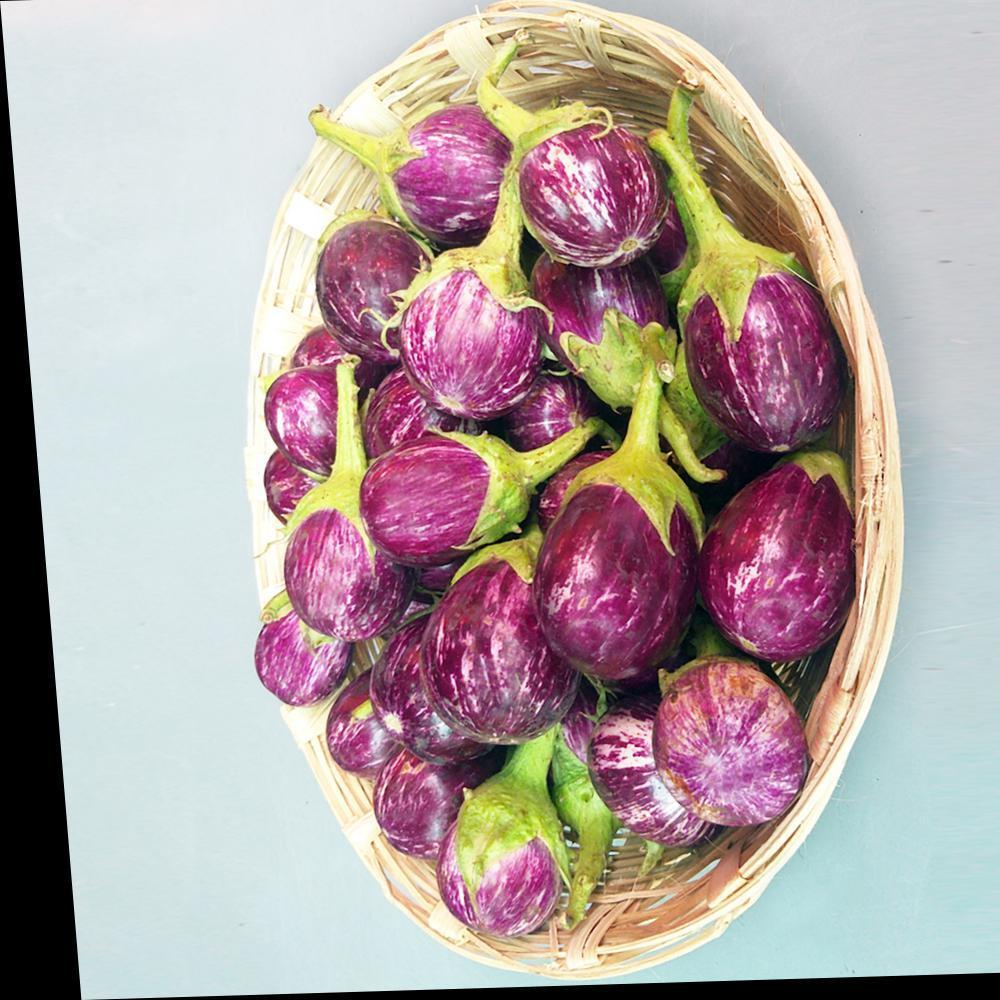eggplant: (290, 148, 776, 814)
